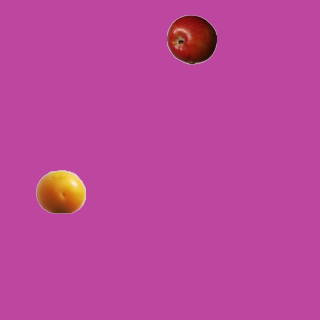Apple Braeburn: (166, 14, 216, 64)
Cherry Wax Yellow: (35, 166, 85, 216)
